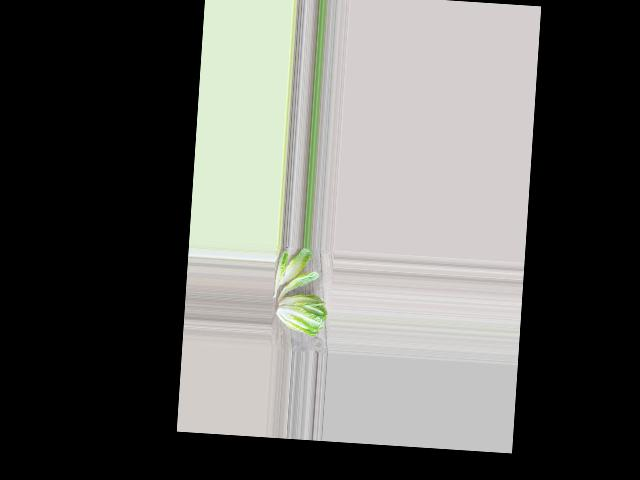lettuce: (276, 290, 328, 338)
